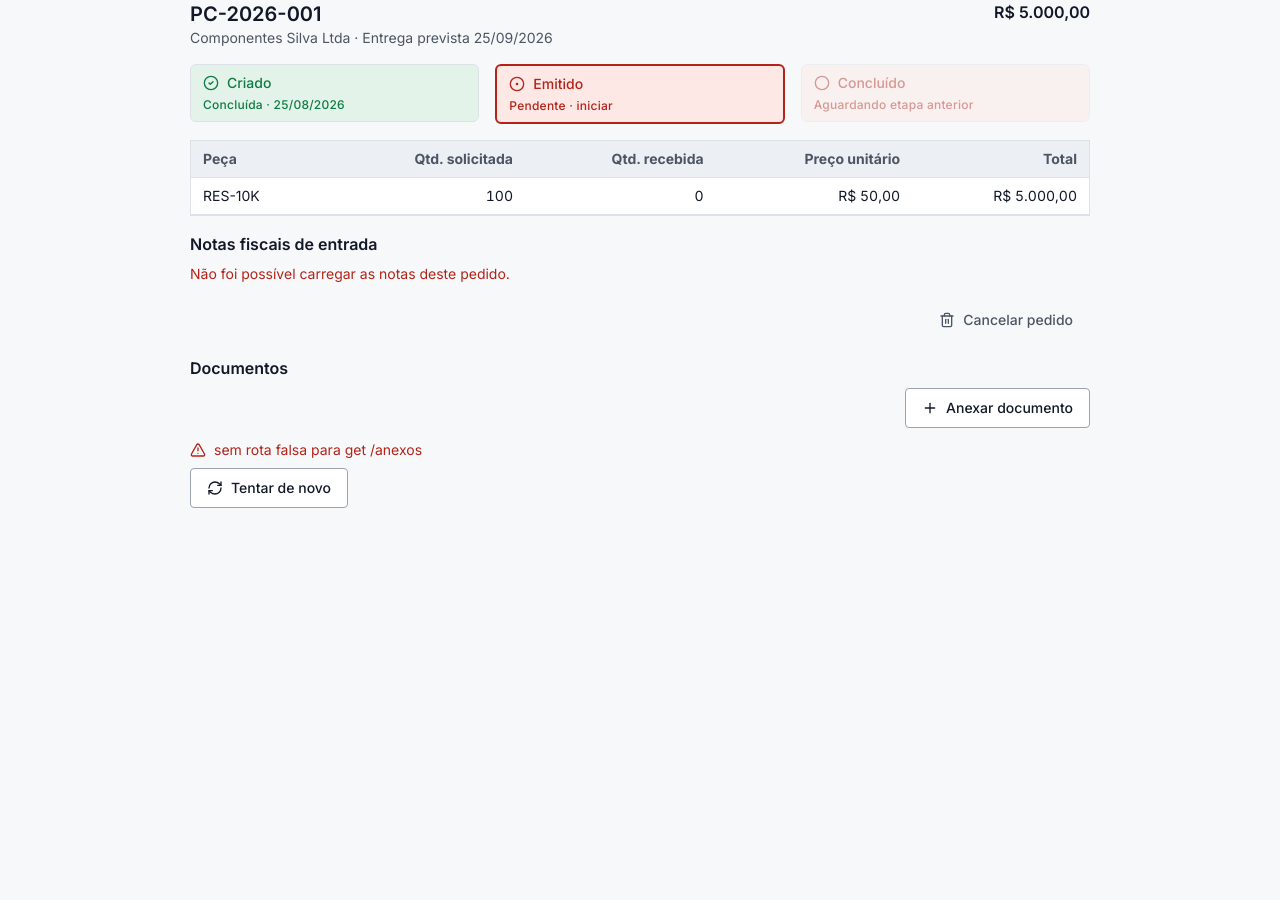
DetalhePedidoCompra › emissao recusada pela alcada mostra o motivo da API
The image size is (1280, 900).
Check: the heading "PC-2026-001" is shown, box 190,2 -> 322,26
Click the button "Emitido Pendente · iniciar".
click(558, 84)  # box 495,64 -> 785,124
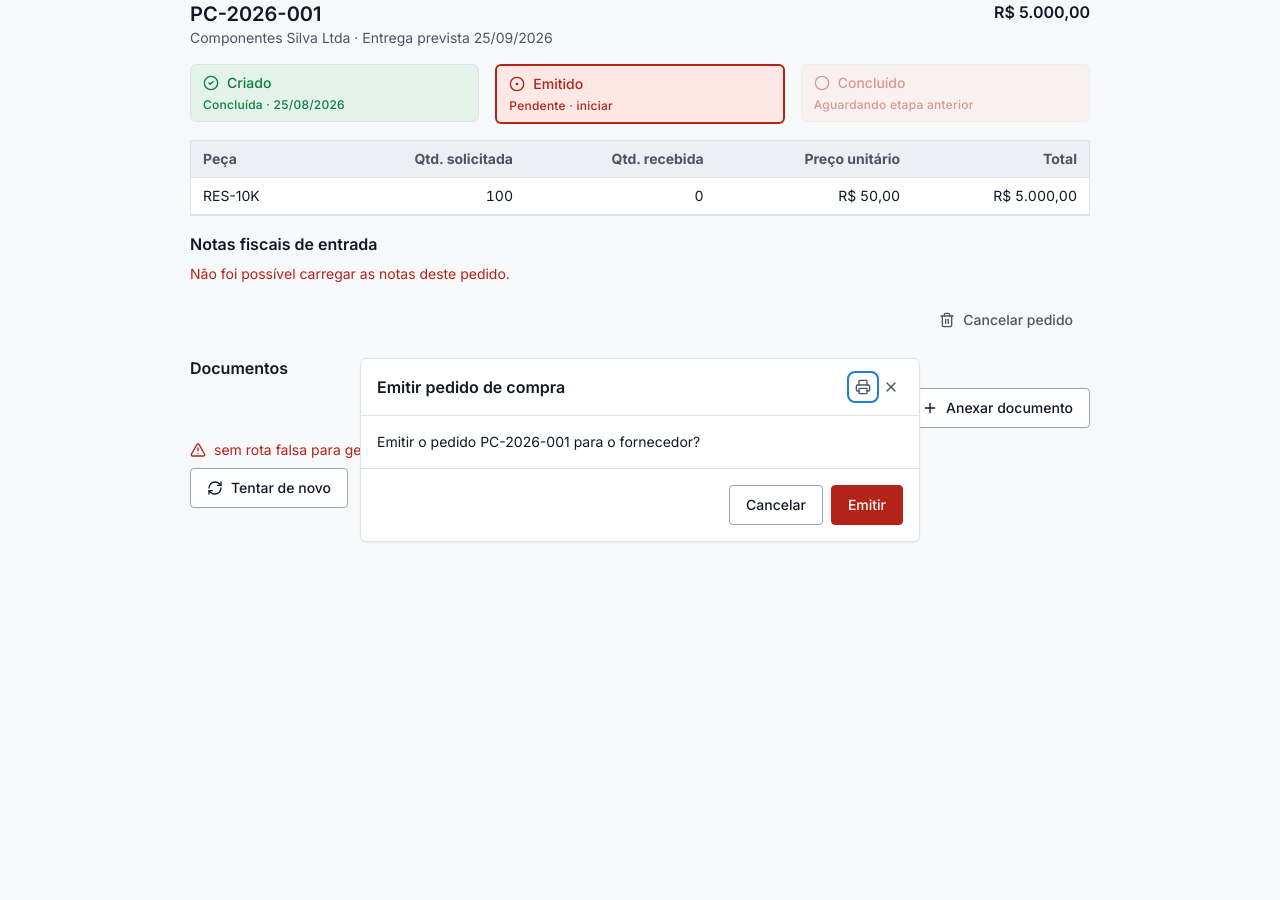
Click the button "Emitir".
click(867, 505)  # box 831,485 -> 903,525
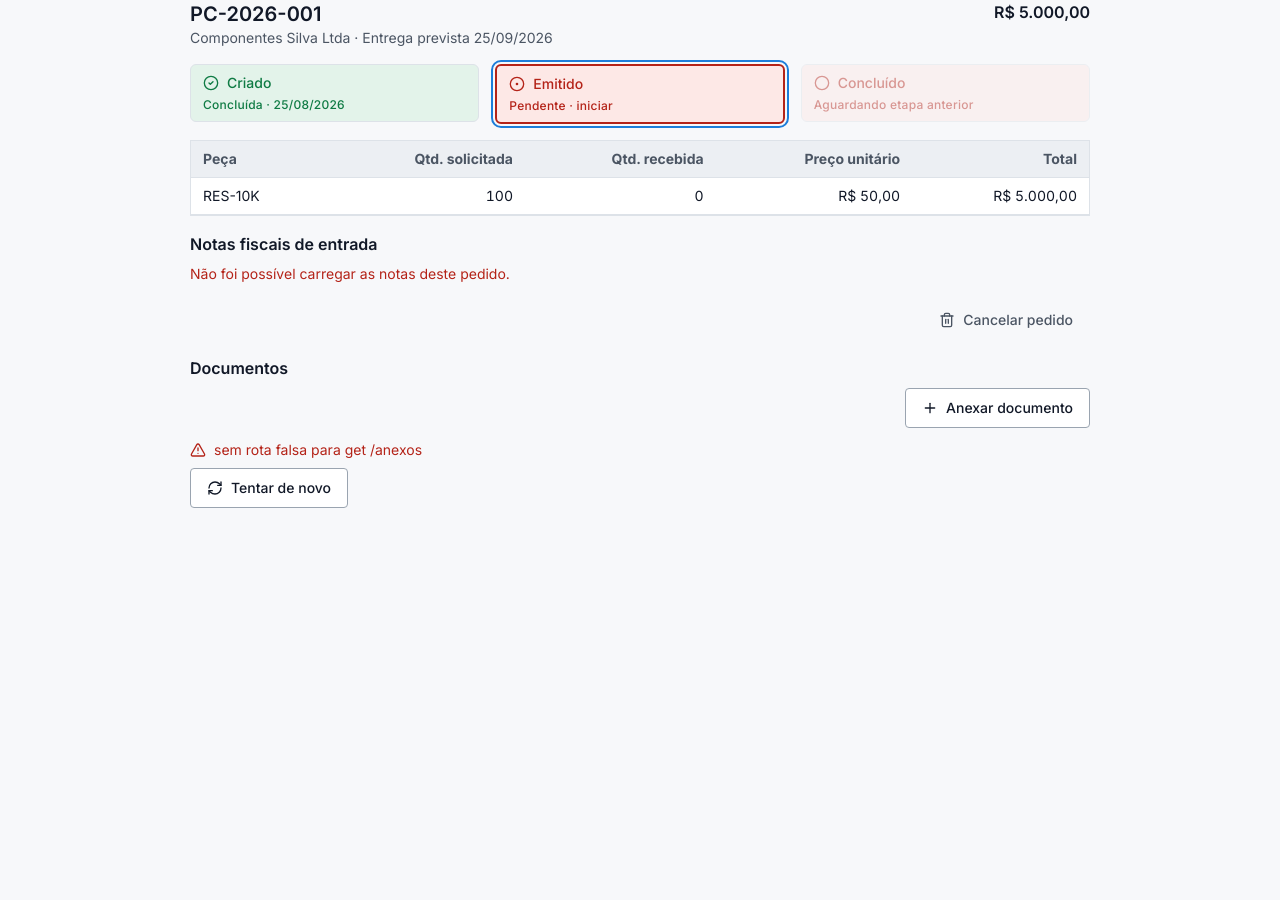
Check: the dialog is gone
